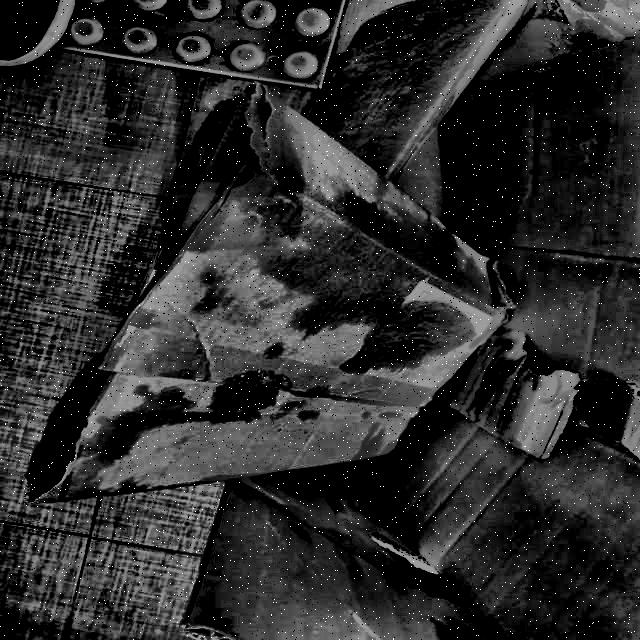box: (15, 76, 518, 505)
hole: (515, 349, 638, 470), (215, 90, 279, 196)
wet: (234, 176, 497, 370), (57, 361, 286, 502)
